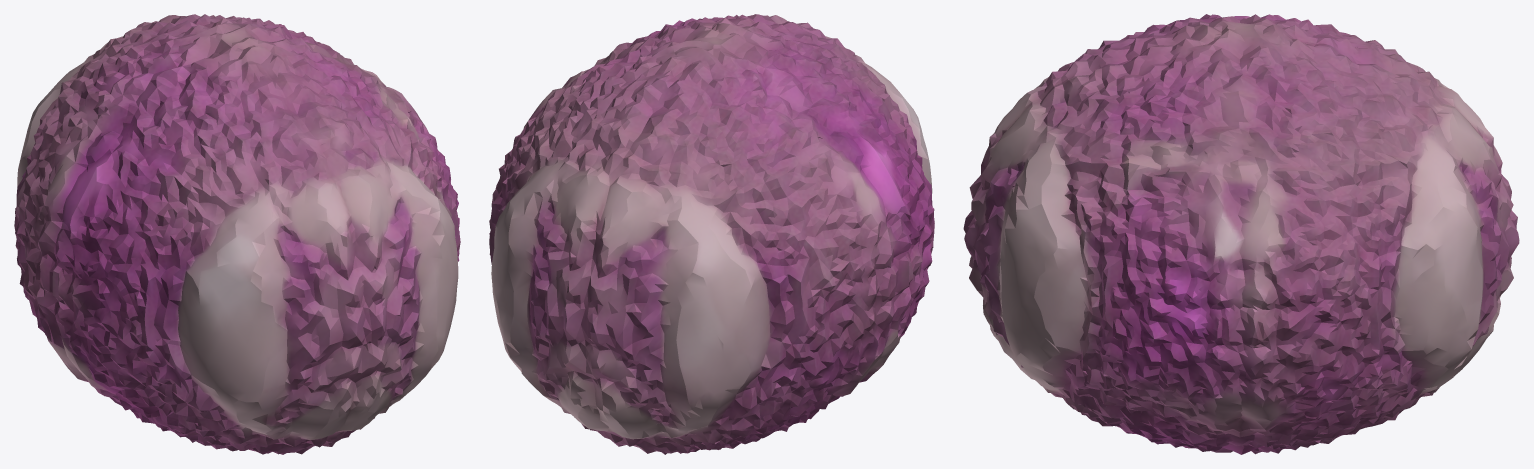
The model's file is meteorite_crystal.glb.
The picture shows the model from 3 angles, left to right: view 1: azimuth 30°, elevation 25°; view 2: azimuth 150°, elevation 25°; view 3: azimuth 270°, elevation 25°; orthographic projection. The views are drawn at different scales.
Parts seen in each view (by area): view 1: meteorite_crystal; view 2: meteorite_crystal; view 3: meteorite_crystal.
Part boxes in pixels (box(x1,y1,x2,y2)): meteorite_crystal: box(14, 14, 460, 454); meteorite_crystal: box(489, 14, 934, 454); meteorite_crystal: box(963, 14, 1519, 454).
Bounding box in the file's own units: 1.57 × 1.56 × 1.89.
Materials: 1 (1 with a texture image).
